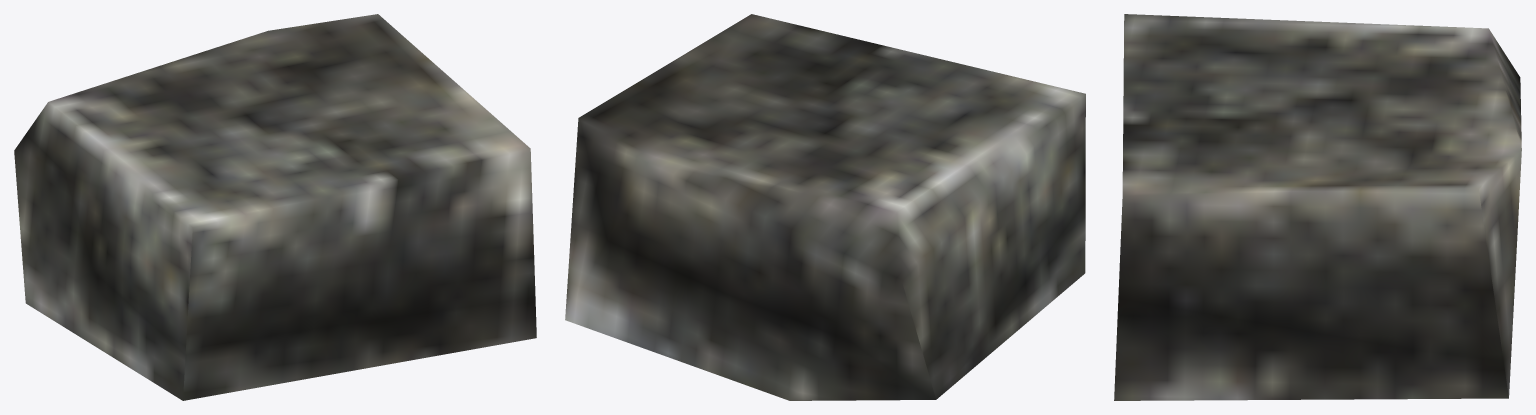
File: Brick2C.fbx
The picture shows the model from 3 angles, left to right: view 1: azimuth 30°, elevation 25°; view 2: azimuth 150°, elevation 25°; view 3: azimuth 270°, elevation 25°; orthographic projection. The views are drawn at different scales.
Parts seen in each view (by area): view 1: polySurface19; view 2: polySurface19; view 3: polySurface19.
Part boxes in pixels (bbox=[...]): polySurface19: bbox=[14, 14, 536, 400]; polySurface19: bbox=[565, 14, 1085, 400]; polySurface19: bbox=[1114, 14, 1521, 400].
Bounding box in the file's own units: 0.6791 × 0.3985 × 0.6179.
